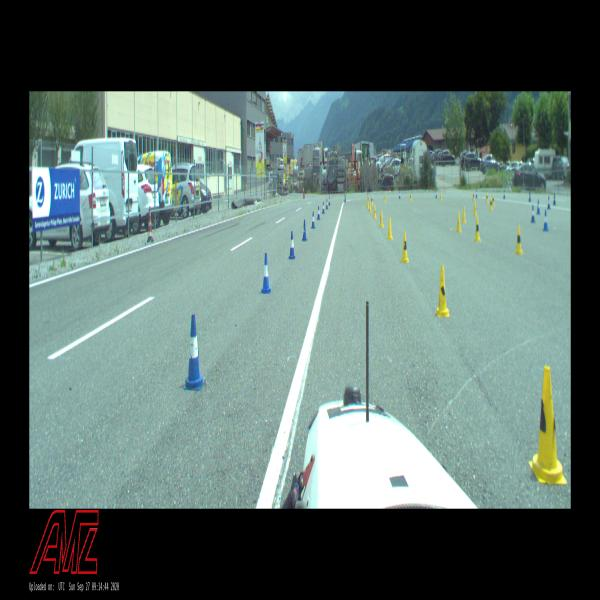blue_cone: (184, 314, 205, 390), (260, 253, 271, 294), (289, 231, 295, 259), (302, 219, 307, 241), (543, 211, 548, 231), (530, 206, 536, 222), (311, 212, 315, 228), (536, 200, 540, 214), (317, 206, 320, 220), (552, 194, 556, 204), (547, 196, 550, 209), (322, 202, 325, 214), (528, 191, 531, 201), (328, 196, 331, 206), (398, 191, 401, 199), (326, 199, 328, 209), (344, 194, 346, 202), (476, 190, 478, 198), (435, 190, 437, 198), (503, 190, 505, 198)
yellow_cone: (529, 366, 567, 484), (435, 266, 450, 317), (400, 232, 409, 262), (515, 226, 523, 254), (474, 219, 481, 242), (386, 218, 392, 239), (456, 212, 462, 233), (379, 210, 384, 228), (462, 206, 466, 224), (473, 202, 477, 216), (372, 205, 376, 218), (489, 198, 493, 210), (369, 202, 372, 212), (472, 191, 475, 201), (383, 194, 386, 203), (366, 199, 369, 208), (492, 195, 494, 206), (486, 193, 488, 203), (371, 195, 373, 205), (410, 192, 412, 201), (440, 192, 442, 200)
